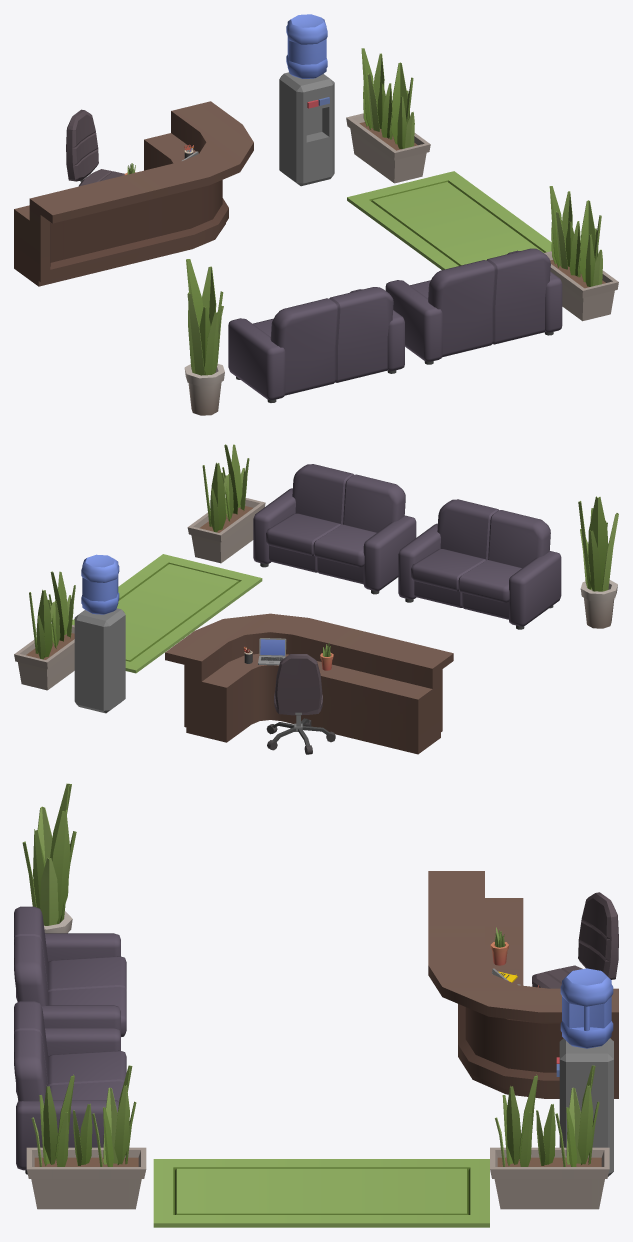
The model's file is enterance1.fbx.
The picture shows the model from 3 angles, top to bottom: view 1: azimuth 30°, elevation 25°; view 2: azimuth 150°, elevation 25°; view 3: azimuth 270°, elevation 25°; orthographic projection. The views are drawn at different scales.
Visible parts, largest first — view 1: info_table2, sofa2_p__1_, sofa2_p, carpet2, waterdispenser__1_, plant2__6_, plant2__5_, plant1__2_, pc_chair5; view 2: info_table2, sofa2_p__1_, sofa2_p, carpet2, waterdispenser__1_, plant2__5_, plant2__6_, pc_chair5, plant1__2_, laptop_opened; view 3: carpet2, info_table2, plant2__5_, sofa2_p, plant2__6_, sofa2_p__1_, waterdispenser__1_, plant1__2_, pc_chair5.
Boxes of the visible parts, x1,y1,x2,y2 form: info_table2: [14, 101, 253, 286]; sofa2_p__1_: [228, 287, 404, 402]; sofa2_p: [385, 248, 562, 364]; carpet2: [347, 171, 551, 269]; waterdispenser__1_: [279, 14, 334, 186]; plant2__6_: [346, 48, 430, 183]; plant2__5_: [544, 186, 618, 321]; plant1__2_: [184, 259, 224, 415]; pc_chair5: [66, 109, 124, 186]; info_table2: [165, 613, 453, 754]; sofa2_p__1_: [398, 499, 561, 629]; sofa2_p: [253, 464, 416, 594]; carpet2: [72, 554, 262, 673]; waterdispenser__1_: [74, 554, 125, 713]; plant2__5_: [187, 444, 265, 563]; plant2__6_: [14, 571, 75, 690]; pc_chair5: [266, 654, 335, 754]; plant1__2_: [578, 496, 618, 628]; laptop_opened: [258, 638, 286, 665]; carpet2: [153, 1159, 489, 1227]; info_table2: [428, 871, 618, 1098]; plant2__5_: [26, 1065, 146, 1209]; sofa2_p: [14, 1001, 126, 1174]; plant2__6_: [490, 1065, 609, 1209]; sofa2_p__1_: [14, 906, 126, 1036]; waterdispenser__1_: [556, 968, 613, 1176]; plant1__2_: [22, 783, 76, 933]; pc_chair5: [532, 892, 618, 988].
Size of the model in its own units: 426 by 141 by 404.
